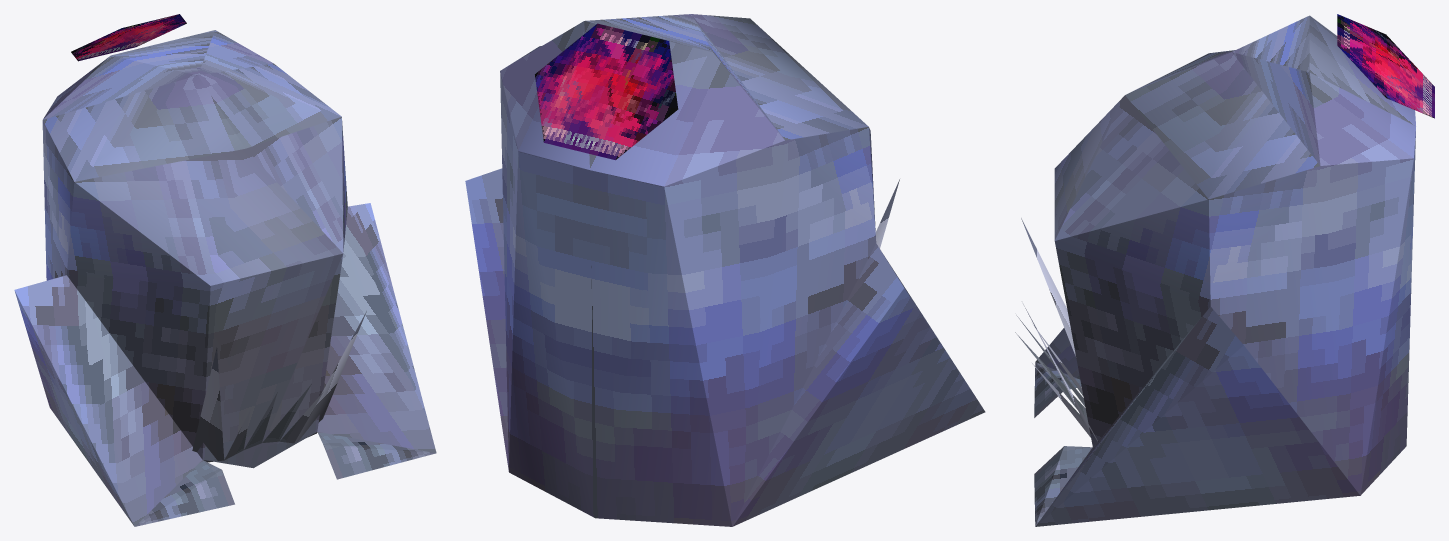
File: thm_prp_kiosk_statue_l4.fbx
The picture shows the model from 3 angles, left to right: view 1: azimuth 30°, elevation 25°; view 2: azimuth 150°, elevation 25°; view 3: azimuth 270°, elevation 25°; orthographic projection. The views are drawn at different scales.
Parts seen in each view (by area): view 1: mesh_node; view 2: mesh_node; view 3: mesh_node.
Boxes of the visible parts, x1=… form: mesh_node: x1=14, y1=14, x2=436, y2=526; mesh_node: x1=465, y1=14, x2=985, y2=526; mesh_node: x1=1015, y1=14, x2=1434, y2=526.
Bounding box in the file's own units: 1.54 × 1.54 × 1.41.
1 material, 1 textured.
